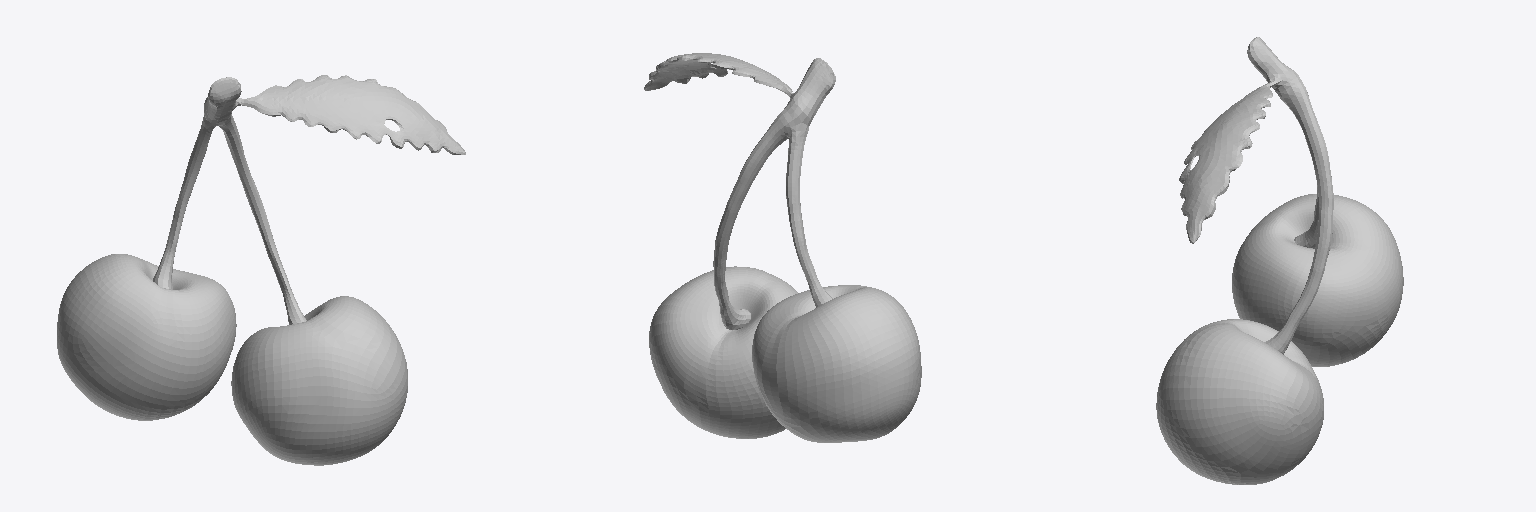
Rendered from cherry.obj.
3 views of the same model, side by side, from view 1: azimuth 30°, elevation 25°; view 2: azimuth 150°, elevation 25°; view 3: azimuth 270°, elevation 25° (orthographic).
Parts seen in each view (by area): view 1: Cherry; view 2: Cherry; view 3: Cherry.
Boxes of the visible parts, x1,y1,x2,y2 form: Cherry: [57, 75, 465, 465]; Cherry: [644, 53, 921, 442]; Cherry: [1156, 37, 1403, 484].
Size of the model in its own units: 517 by 585 by 332.